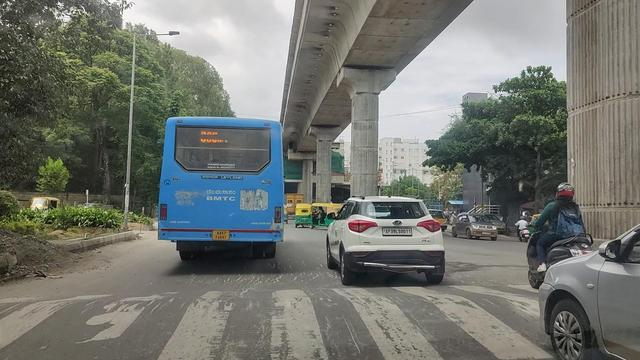LMV: (159, 120, 285, 251), (328, 196, 447, 278)
SpeedBump: (6, 283, 521, 347)
